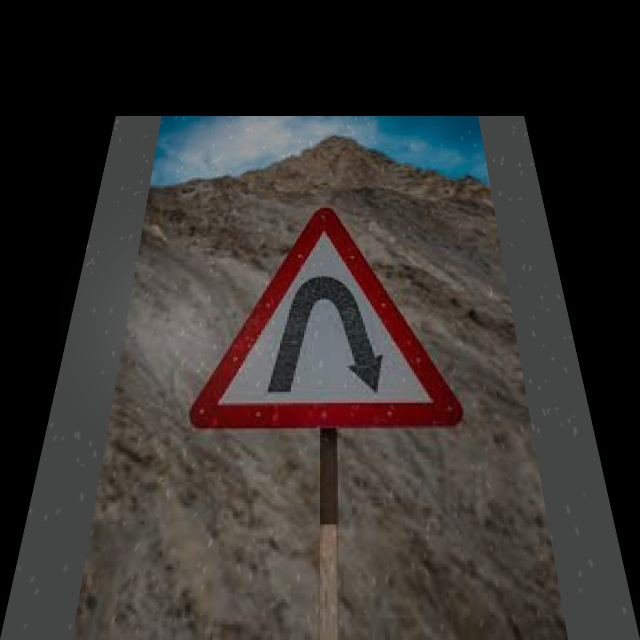Right_Hair_Pin_Bend: (207, 211, 463, 424)
